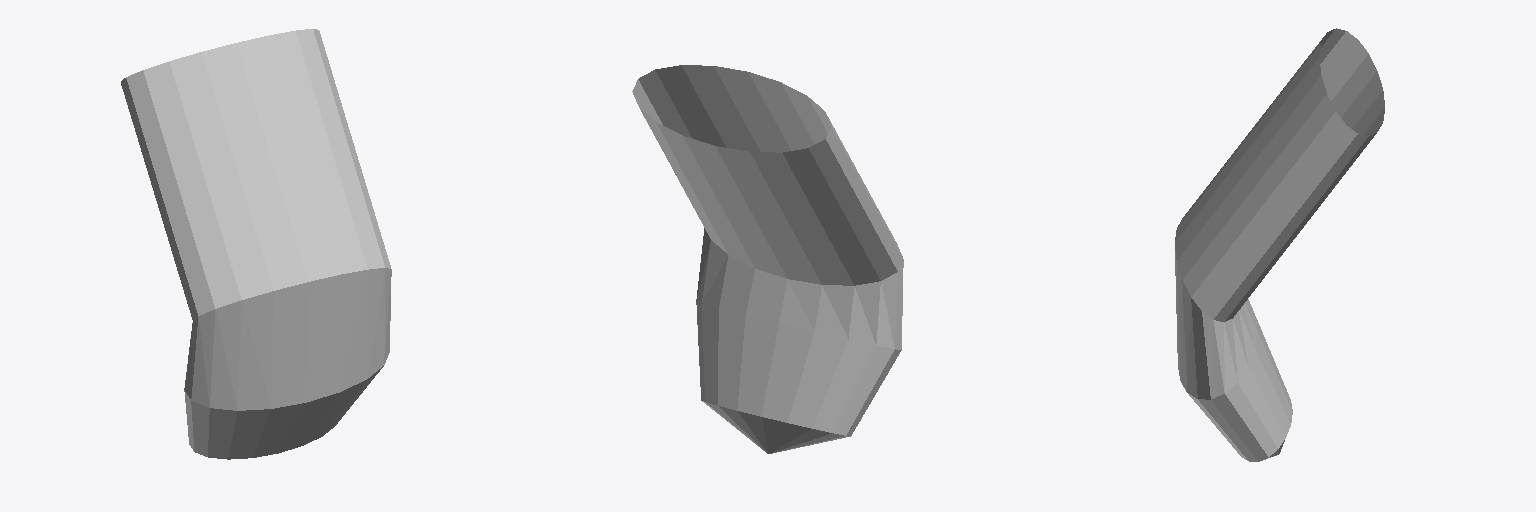
File: ghost_tongue.obj
3 renders of one model, left to right at view 1: azimuth 30°, elevation 25°; view 2: azimuth 150°, elevation 25°; view 3: azimuth 270°, elevation 25°, orthographic.
Visible parts, largest first — view 1: ghost.001; view 2: ghost.001; view 3: ghost.001.
Part boxes in pixels (bbox=[...]): ghost.001: bbox=[121, 29, 391, 459]; ghost.001: bbox=[632, 65, 903, 453]; ghost.001: bbox=[1175, 28, 1384, 461].
Bounding box in the file's own units: 1.67 × 3.19 × 1.53.